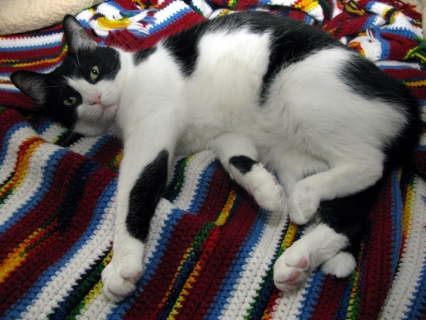Cat: (8, 11, 426, 304)
